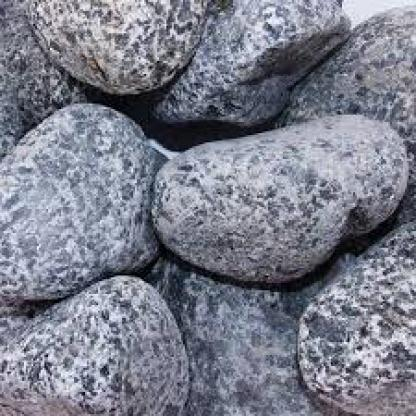Igneous_Diorite: (144, 113, 405, 277), (0, 98, 170, 305), (0, 266, 191, 415), (22, 3, 211, 90)
